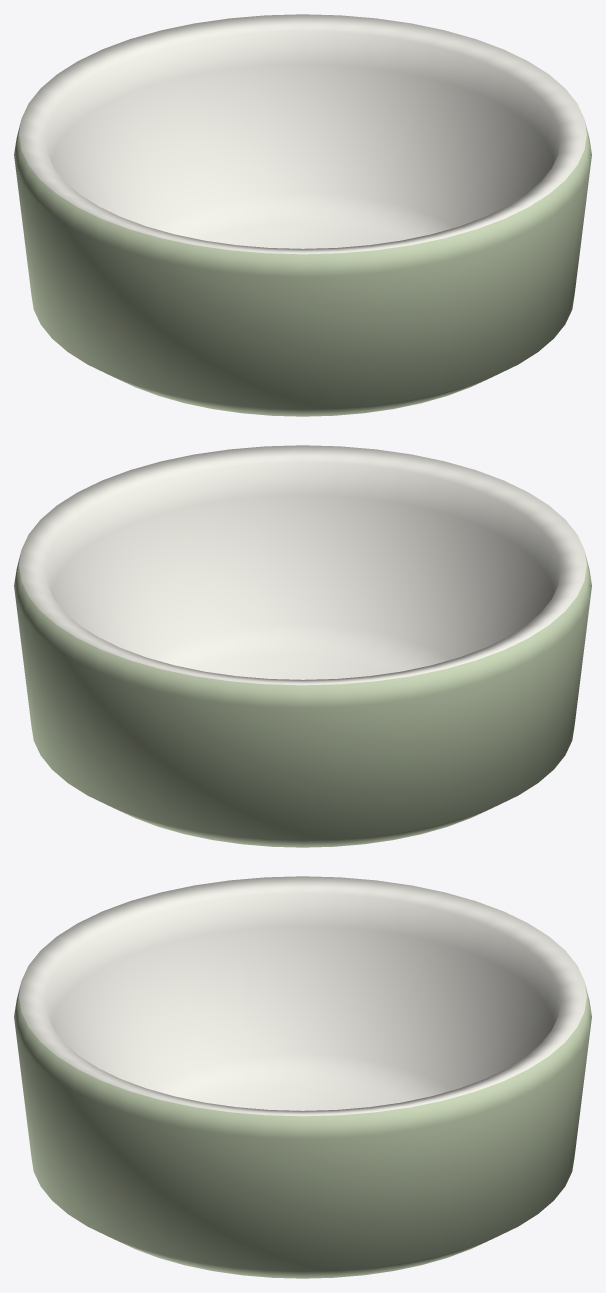
File: vessel-sink.glb
3 views of the same model, one above another, from view 1: azimuth 30°, elevation 25°; view 2: azimuth 150°, elevation 25°; view 3: azimuth 270°, elevation 25° (orthographic).
Parts seen in each view (by area): view 1: vessel-sink; view 2: vessel-sink; view 3: vessel-sink.
Part boxes in pixels (x1,y1,x2,y2): vessel-sink: [14, 14, 591, 416]; vessel-sink: [14, 445, 591, 847]; vessel-sink: [14, 876, 591, 1278].
Bounding box in the file's own units: 0.46 × 0.16 × 0.46.
